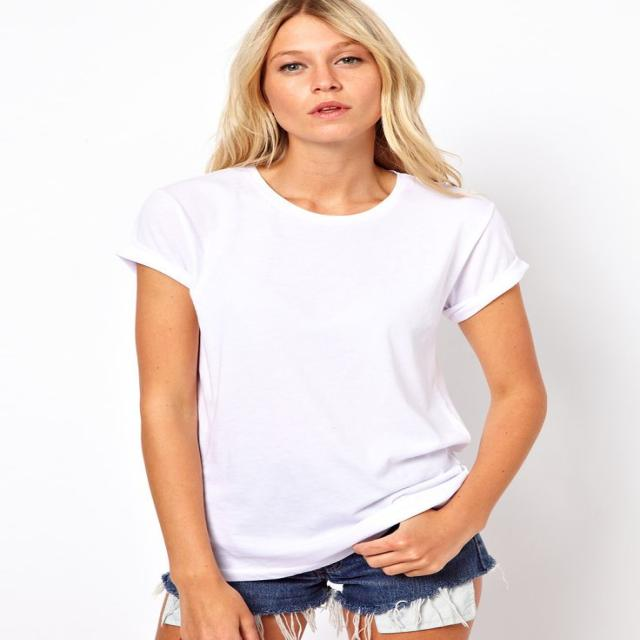shoulder: (126, 174, 515, 255)
